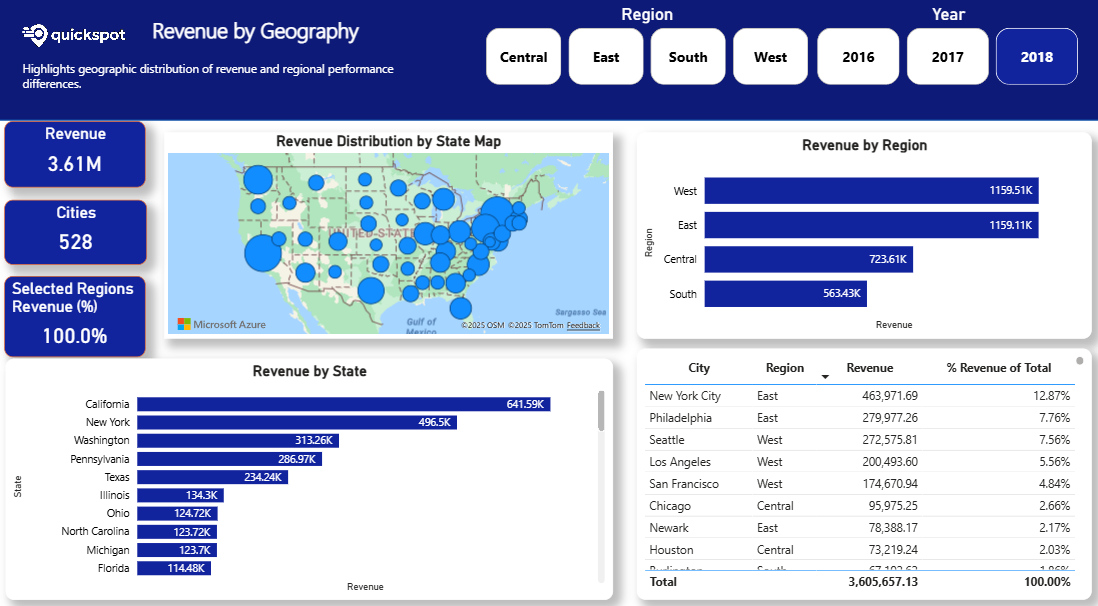

What the dashboard file says about the page in this screenshot:
{"tool":"powerbi","page":{"name":"Revenue Geography","canvas":[1280,720],"ordinal":2},"visuals":[{"type":"card","title":"Revenue","fields":{"Values":["Measures_.Revenue"]},"box":[18.6,148.6,161.4,75.7],"z":0},{"type":"shape","box":[0,0,1280,148],"z":1000},{"type":"advancedSlicerVisual","fields":{"Values":["Calendar DAX.Year"]},"box":[942.9,15.7,310,97.1],"z":2000},{"type":"textbox","box":[182.9,22.4,577.2,83.3],"z":3000},{"type":"textbox","box":[34.8,74.6,483.9,48.5],"z":4000},{"type":"image","box":[34.8,0,129.4,104.5],"z":5000},{"type":"card","title":"Selected Regions Revenue (%)","fields":{"Values":["Geography Measures.Top Region %"]},"box":[18.6,325.7,161.4,92.9],"z":6000},{"type":"azureMap","title":"Revenue Distribution by State Map","fields":{"Size":["Measures_.Revenue"],"Category":["TablaTerritorio.State"]},"box":[201.4,161.4,512.9,235.7],"z":7000},{"type":"clusteredBarChart","fields":{"Y":["Measures_.Revenue"],"Category":["TablaTerritorio.Region"]},"box":[741.4,161.4,520,235.7],"z":8000},{"type":"clusteredBarChart","fields":{"Y":["Measures_.Revenue"],"Category":["TablaTerritorio.State"]},"box":[20,420,694.3,275.7],"z":9000},{"type":"tableEx","fields":{"Values":["TablaTerritorio.City","TablaTerritorio.Region","Measures_.Revenue","Product Measures.% Revenue of Total"]},"box":[741.4,408.6,520,287.1],"z":10000},{"type":"card","title":"Cities","fields":{"Values":["Geography Measures.Cities"]},"box":[18.6,238.6,162.9,74.3],"z":11000},{"type":"advancedSlicerVisual","fields":{"Values":["TablaTerritorio.Region"]},"box":[564.3,15.7,378.6,97.1],"z":12000}]}

Visuals, with their boxes in screenshot pixels (x1, y1, x2, y2), scaled from the page's 1280x720 canvas onto the 1098x606 screenshot:
"Revenue" card: bbox(16, 125, 154, 189)
shape: bbox(0, 0, 1097, 125)
advancedSlicerVisual - Calendar DAX.Year: bbox(809, 13, 1075, 95)
textbox: bbox(157, 19, 652, 89)
textbox: bbox(30, 63, 445, 104)
image: bbox(30, 0, 141, 88)
"Selected Regions Revenue (%)" card: bbox(16, 274, 154, 352)
"Revenue Distribution by State Map" azureMap: bbox(173, 136, 613, 334)
clusteredBarChart - Measures_.Revenue x TablaTerritorio.Region: bbox(636, 136, 1082, 334)
clusteredBarChart - Measures_.Revenue x TablaTerritorio.State: bbox(17, 354, 613, 586)
tableEx - TablaTerritorio.City x TablaTerritorio.Region: bbox(636, 344, 1082, 586)
"Cities" card: bbox(16, 201, 156, 263)
advancedSlicerVisual - TablaTerritorio.Region: bbox(484, 13, 809, 95)
